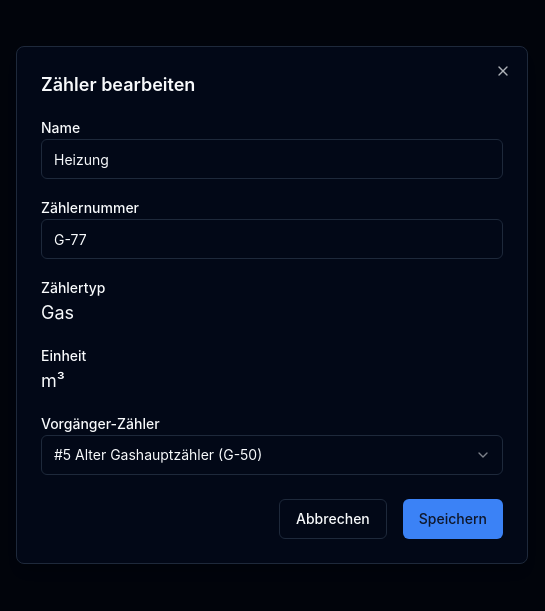
Test: EditMeterModal › shows the generic error message when the failure has no detail
Expected: the text "Gas" is shown, [41, 302, 74, 323]
Replace the text in the field labelled "Name" with "Fehlversuch": (272, 159) [41, 139, 503, 179]
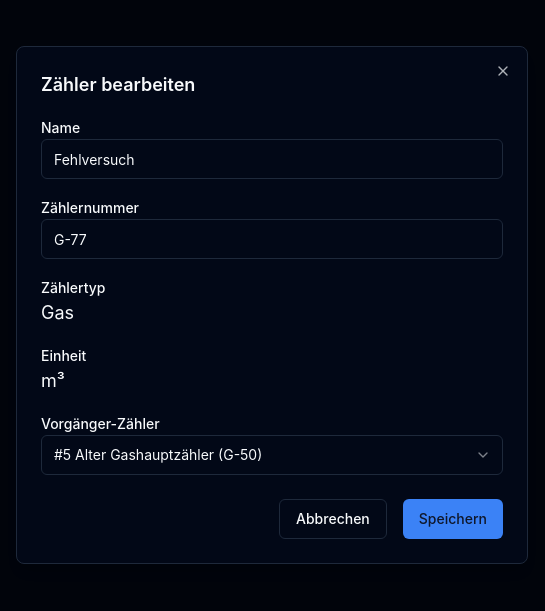
Click the button "Speichern": click(453, 519) [403, 499, 503, 539]
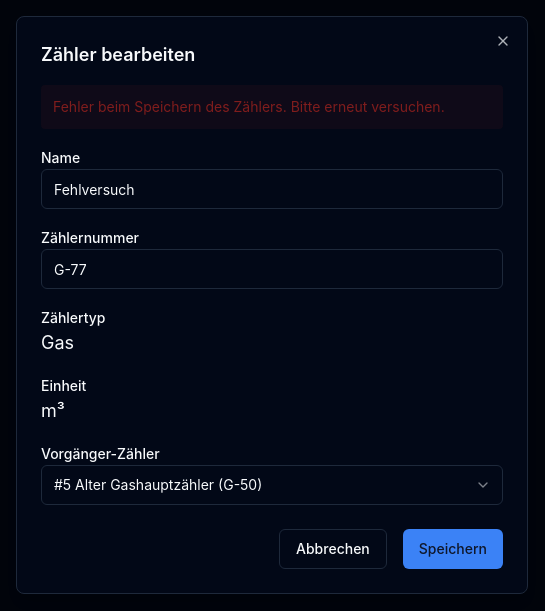
Result: the text "Fehler beim Speichern des Zählers. Bitte erneut versuchen." is shown at [41, 85, 503, 129]
